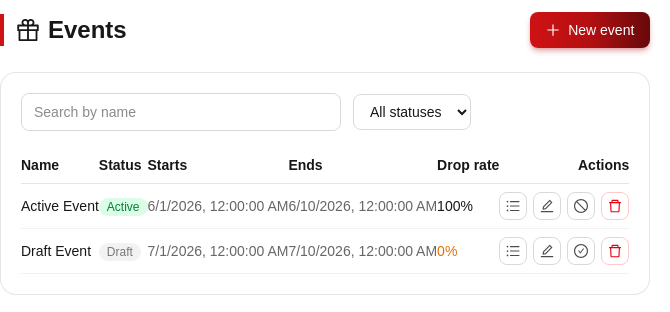
it: shows empty state when no events match
Expected: the text "Active Event" is shown, top-left (21, 184), bottom-right (99, 228)
Type "XYZ" into the field with placeholder "Search by name".
click(181, 112); type("XYZ")  # box top-left (21, 93), bottom-right (341, 131)
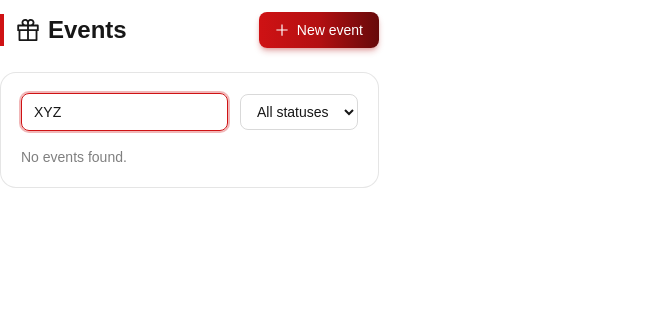
Expected: the text "No events found." is shown, top-left (21, 149), bottom-right (127, 165)
